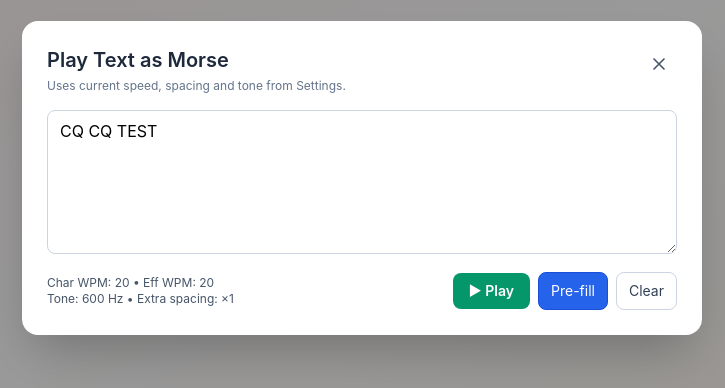
Scenario: TextPlayerModal › should stop playback when stop button is clicked
What coordinates should you click on to do the following:
click the button "▶ Play"
I would click on:
 (491, 291)
Its box is [453, 273, 530, 309].
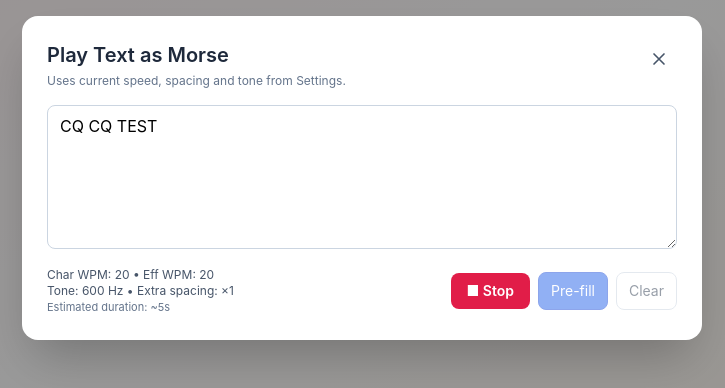
What coordinates should you click on to do the following:
click the button "■ Stop"
I would click on:
 (490, 291)
Its box is [450, 273, 530, 309].
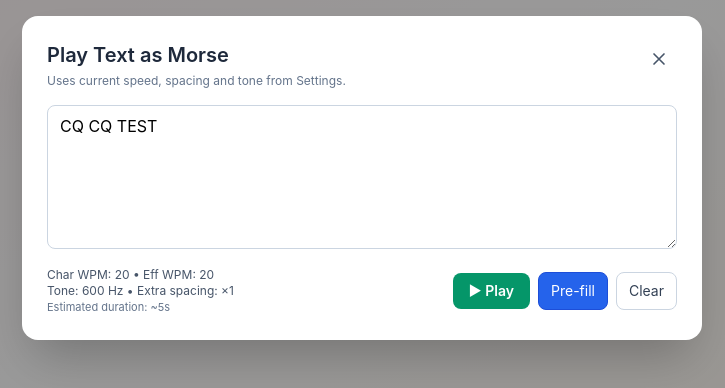
Expected: the button "▶ Play" is shown, [453, 273, 530, 309]
